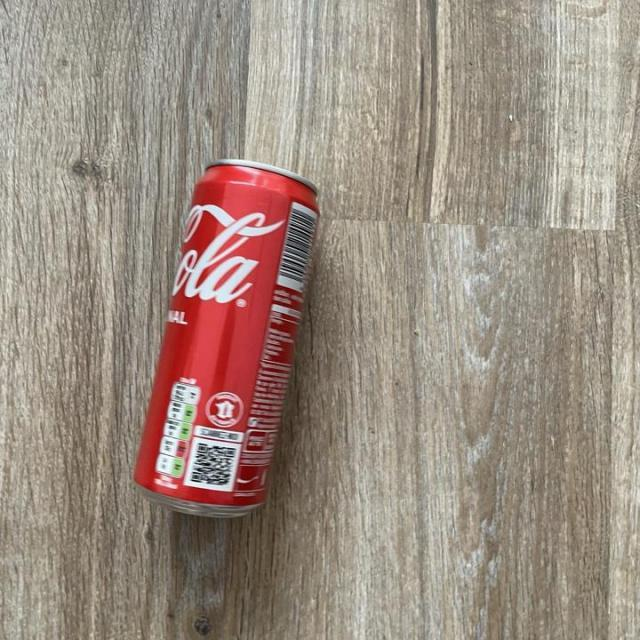recyclable: (124, 142, 336, 540)
